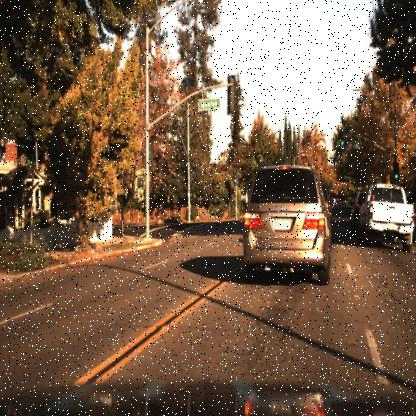car: (242, 166, 332, 284), (359, 182, 415, 255)
trafficLight: (339, 126, 347, 151)
trafficLight-Green: (393, 160, 400, 184)
trafficLight-GreenLeft: (231, 164, 239, 188)
